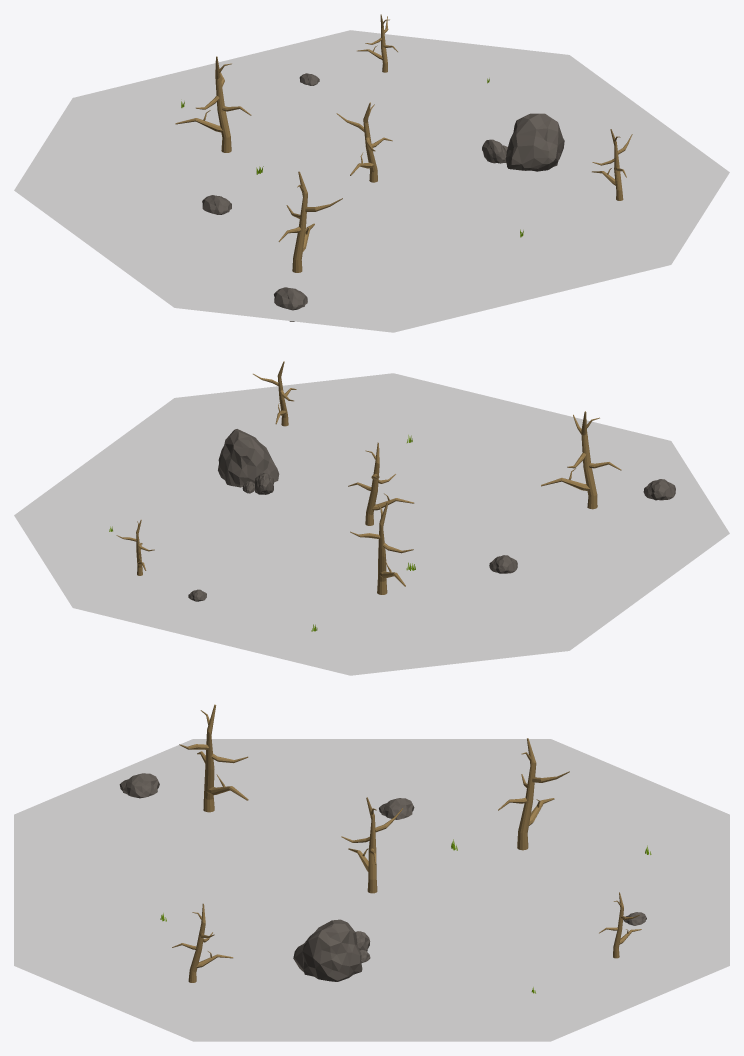
File: SnowDeadTrees.fbx
3 renders of one model, top to bottom at view 1: azimuth 30°, elevation 25°; view 2: azimuth 150°, elevation 25°; view 3: azimuth 270°, elevation 25°, orthographic. The views are drawn at different scales.
Visible parts, largest first — view 1: Ground, Rock, DeadTree; view 2: Ground, DeadTree, Rock; view 3: Ground, DeadTree, Rock.
Part boxes in pixels (x1,y1,x2,y2): Ground: (14,30,729,332); Rock: (202,73,564,321); DeadTree: (175,14,632,272); Ground: (14,373,729,675); DeadTree: (116,361,621,594); Rock: (188,429,675,601); Ground: (14,739,729,1041); DeadTree: (172,704,641,982); Rock: (119,773,646,981).
Bounding box in the file's own units: 400 × 87.65 × 400.
